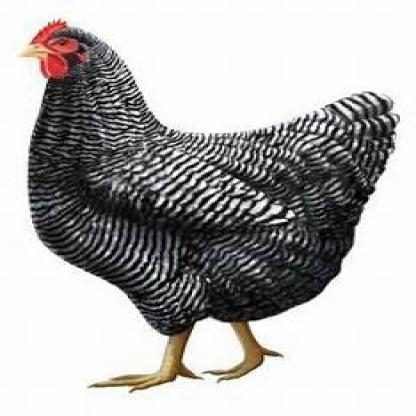chicken: (18, 18, 398, 394)
